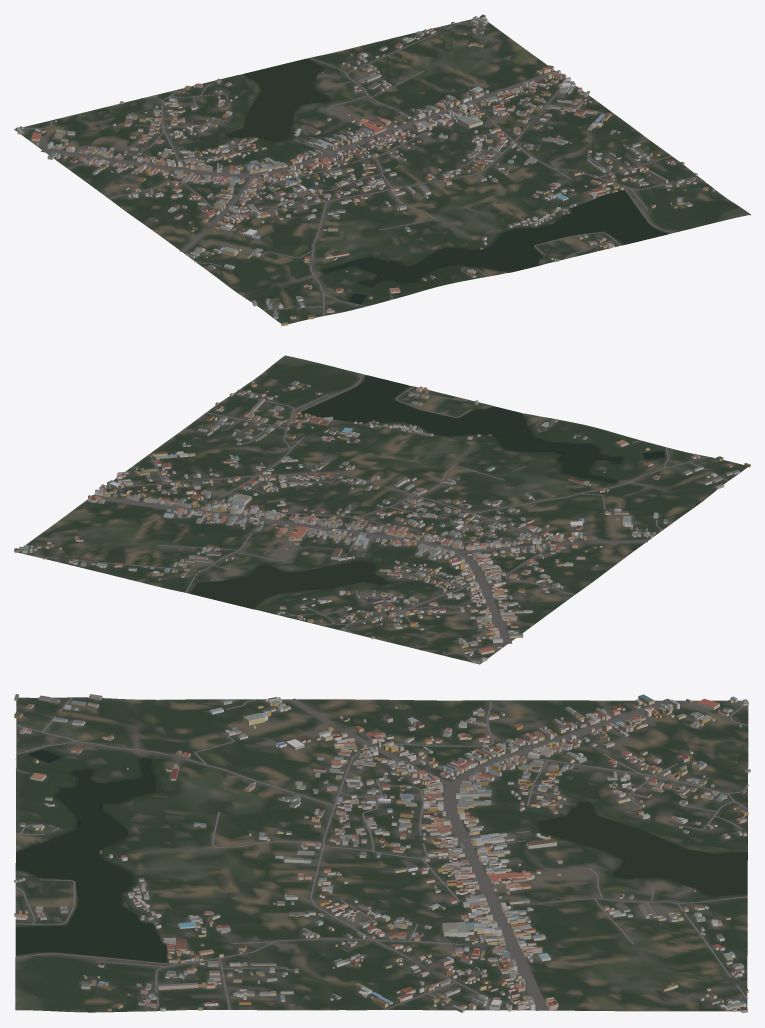
The picture shows the model from 3 angles, top to bottom: view 1: azimuth 30°, elevation 25°; view 2: azimuth 150°, elevation 25°; view 3: azimuth 270°, elevation 25°; orthographic projection. The views are drawn at different scales.
Parts seen in each view (by area): view 1: ground, buildings, water, roads; view 2: ground, buildings, water, roads; view 3: ground, buildings, water, roads.
Boxes of the visible parts, box(x1,y1,x2,y2) form: ground: box(14, 17, 750, 323); buildings: box(15, 14, 714, 325); water: box(226, 59, 667, 303); roads: box(21, 21, 706, 321); ground: box(15, 355, 747, 664); buildings: box(14, 380, 750, 663); water: box(191, 375, 664, 608); roads: box(34, 374, 733, 661); ground: box(15, 697, 748, 1012); buildings: box(14, 694, 750, 1013); water: box(16, 749, 747, 962); roads: box(15, 697, 748, 1011).
Size of the model in its own units: 1424 by 28.38 by 1411.
